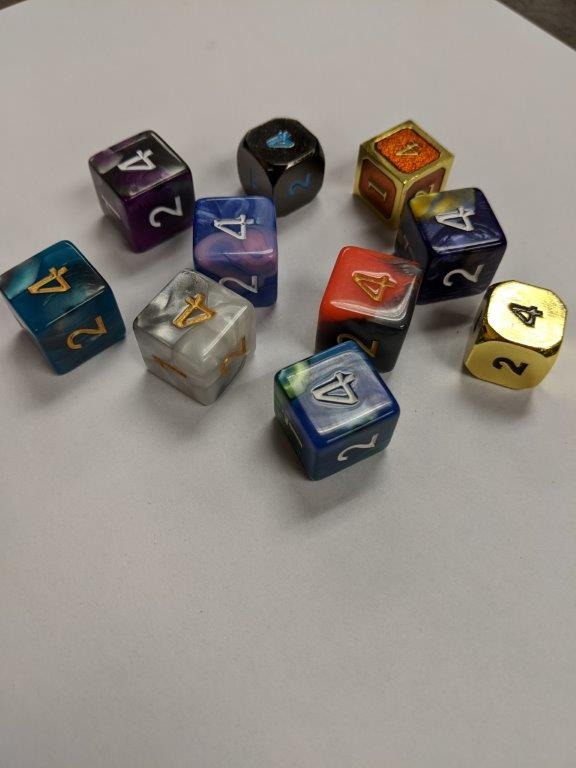d6-4: (270, 342, 399, 481), (1, 241, 126, 375), (133, 269, 256, 404), (311, 245, 421, 378), (87, 127, 195, 254), (459, 279, 569, 397), (397, 185, 503, 305), (352, 118, 454, 227), (192, 195, 281, 310), (235, 118, 325, 217)
